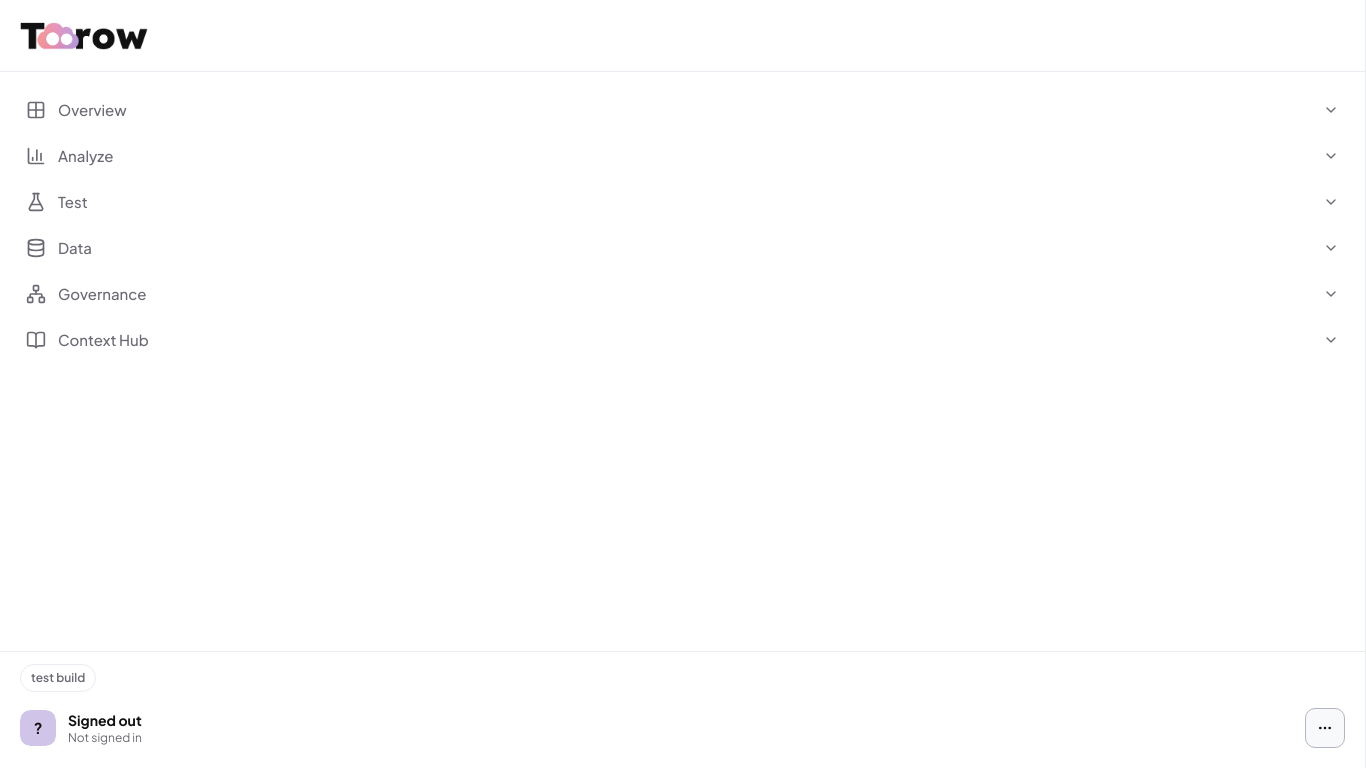
Test: Appearance — the switch shows the page, the sentence shows the rule › is ON on a dark system even though the stored mode is `system`
The width and height of the screenshot is (1366, 768).
Click the button named "Account menu" at {"x": 1325, "y": 728}, box [1305,708,1345,748]
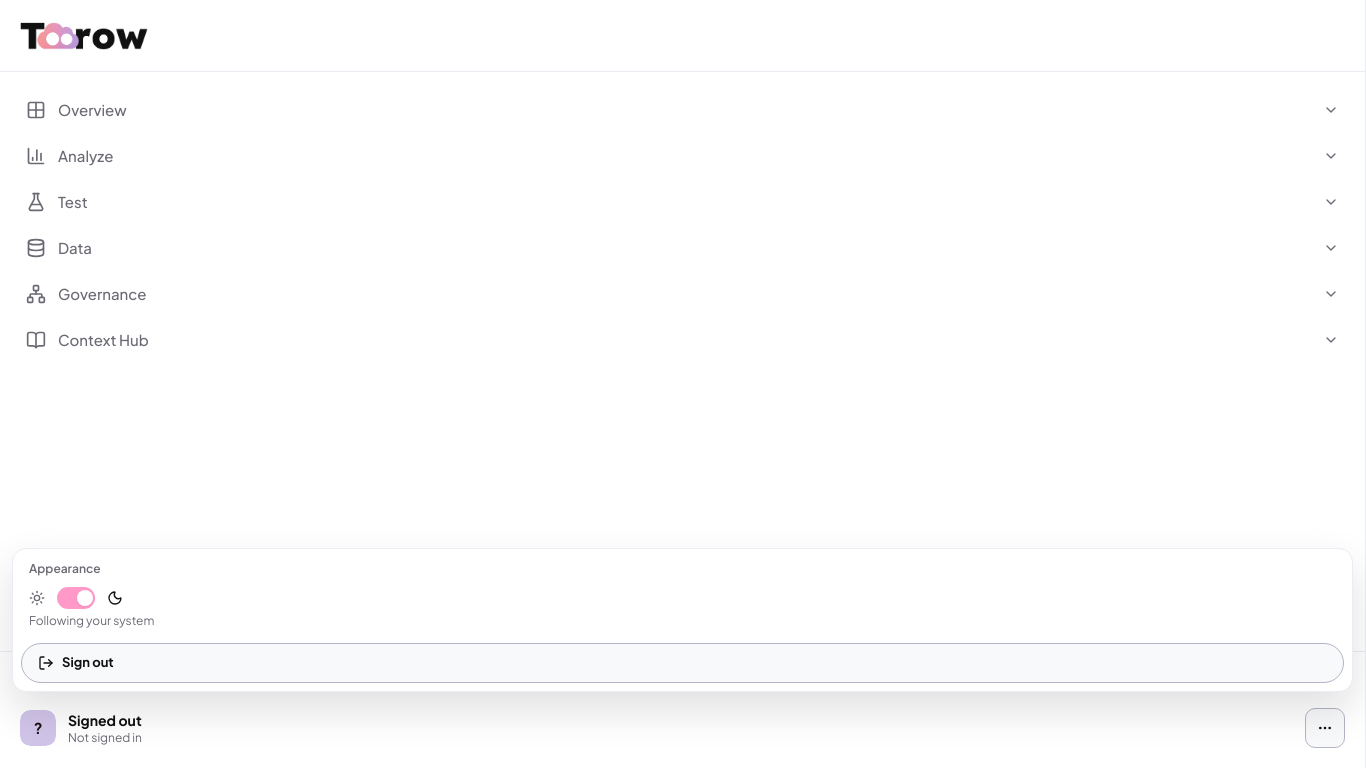
Now the switch named "Dark theme" is checked, box [57,587,95,609]
Now the text "Following your system" is shown, box [29,613,154,628]
